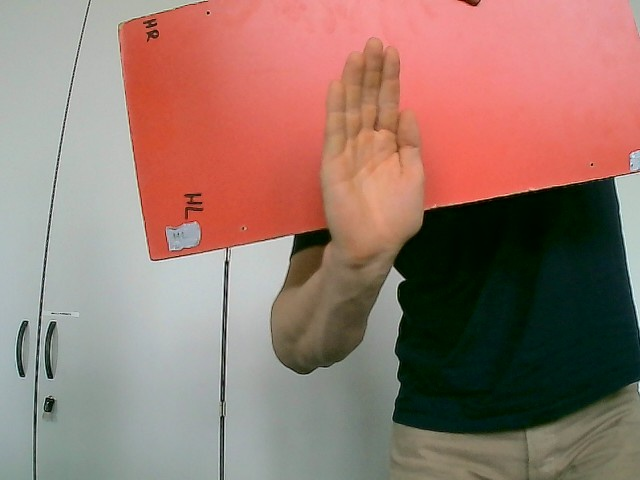stop: (317, 36, 427, 263)
